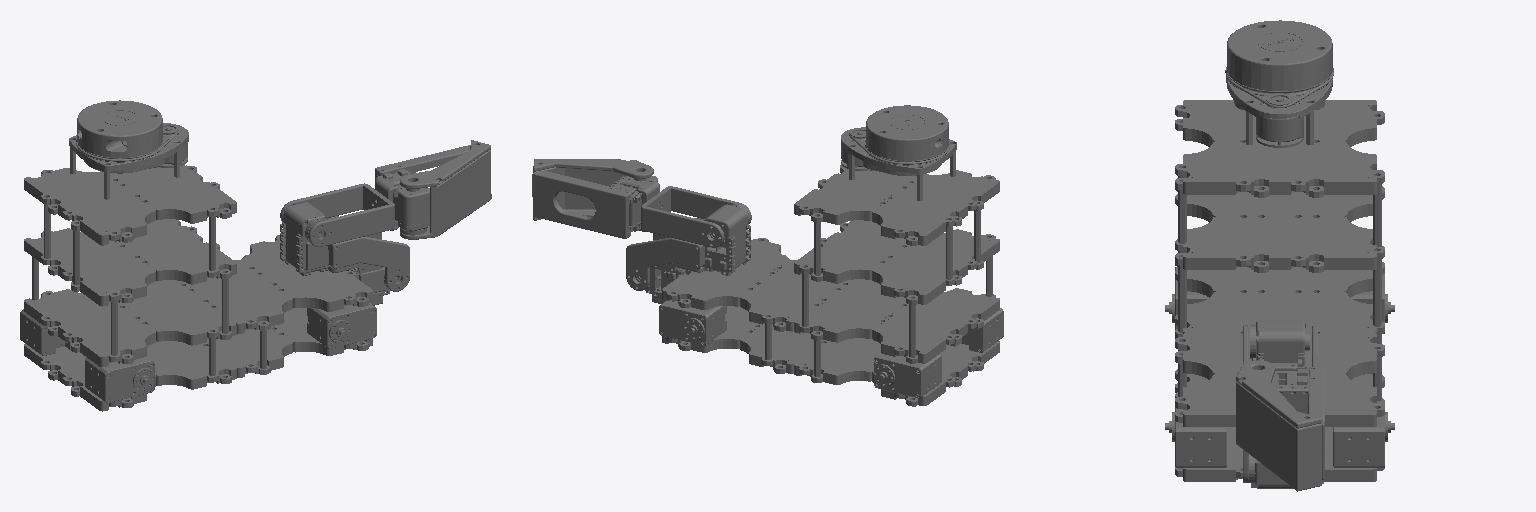
robot.urdf — ai_car:
<?xml version="1.0"?>
<robot name="ai_car">
    <material name="grey">
        <color rgba="0.5 0.5 0.5 1.0"/>
    </material>

    <link name="base_footprint"/>

    <joint name="base_joint" type="fixed">
        <parent link="base_footprint"/>
        <child link="base_link"/>
        <origin xyz="0.0 0.0 0.010" rpy="0 0 0"/>
    </joint>

    <link name="base_link">
        <visual>
            <geometry>
                <mesh filename="package://ai_car/meshes/base_link.stl" scale="0.001 0.001 0.001"/>
            </geometry>
            <material name="grey"/>
        </visual>

        <collision>
            <origin xyz="0.0 0 0.09" rpy="0 0 0"/>
            <geometry>
                <box size="0.27 0.14 0.19"/>
            </geometry>
        </collision>

        <inertial>
            <origin xyz="0 0 0" rpy="0 0 0"/>
            <mass value="8.2573504e-01"/>
            <inertia ixx="2.2124416e-03" ixy="-1.2294101e-05" ixz="3.4938785e-05"
                    iyy="2.1193702e-03" iyz="-5.0120904e-06"
                    izz="2.0064271e-03" />
        </inertial>
    </link>

    <joint name="wheel_left_joint" type="continuous">
        <parent link="base_link"/>
        <child link="wheel_left_link"/>
        <axis xyz="0 0 1"/>
        <origin xyz="0.092 0.08 0.023" rpy="-1.57 0 0"/>
    </joint>

    <link name="wheel_left_link">
        <visual>
            <origin xyz="0.0 0.0 0.0" rpy="1.57 0.0 0.0"/>
            <geometry>
                <mesh filename="package://ai_car/meshes/left_tire.stl" scale="0.001 0.001 0.001"/>
            </geometry>
            <material name="grey"/>
        </visual>

        <collision>
            <origin xyz="0 0 0" rpy="0 0 0"/>
            <geometry>
                <cylinder length="0.018" radius="0.033"/>
            </geometry>
        </collision>

        <inertial>
            <origin xyz="0 0 0" />
            <mass value="2.8498940e-02" />
            <inertia ixx="1.1175580e-05" ixy="-4.2369783e-11" ixz="-5.9381719e-09"
                    iyy="1.1192413e-05" iyz="-1.4400107e-11"
                    izz="2.0712558e-05" />
        </inertial>
    </link>

    <joint name="wheel_right_joint" type="continuous">
        <parent link="base_link"/>
        <child link="wheel_right_link"/>
        <axis xyz="0 0 1"/>
        <origin xyz="0.092 -0.08 0.023" rpy="-1.57 0 0"/>
    </joint>

    <link name="wheel_right_link">
        <visual>
            <origin xyz="0.0 0.0 0.0" rpy="1.57 0.0 0.0"/>
            <geometry>
                <mesh filename="package://ai_car/meshes/right_tire.stl" scale="0.001 0.001 0.001"/>
            </geometry>
            <material name="grey"/>
        </visual>

        <collision>
            <origin xyz="0 0 0" rpy="0 0 0"/>
            <geometry>
                <cylinder length="0.018" radius="0.033"/>
            </geometry>
        </collision>

        <inertial>
            <origin xyz="0 0 0" />
            <mass value="2.8498940e-02" />
            <inertia ixx="1.1175580e-05" ixy="-4.2369783e-11" ixz="-5.9381719e-09"
                    iyy="1.1192413e-05" iyz="-1.4400107e-11"
                    izz="2.0712558e-05" />
        </inertial>
    </link>

    <joint name="wheel_rear_left_joint" type="continuous">
        <parent link="base_link"/>
        <child link="wheel_rear_left_link"/>
        <axis xyz="0 0 1"/>
        <origin xyz="-0.092 0.08 0.023" rpy="-1.57 0 0"/>
    </joint>

    <link name="wheel_rear_left_link">
        <visual>
            <origin xyz="0.0 0.0 0.0" rpy="1.57 0.0 0.0"/>
            <geometry>
                <mesh filename="package://ai_car/meshes/left_tire.stl" scale="0.001 0.001 0.001"/>
            </geometry>
            <material name="grey"/>
        </visual>

        <collision>
            <origin xyz="0 0 0" rpy="0 0 0"/>
            <geometry>
                <cylinder length="0.018" radius="0.033"/>
            </geometry>
        </collision>

        <inertial>
            <origin xyz="0 0 0" />
            <mass value="2.8498940e-02" />
            <inertia ixx="1.1175580e-05" ixy="-4.2369783e-11" ixz="-5.9381719e-09"
                    iyy="1.1192413e-05" iyz="-1.4400107e-11"
                    izz="2.0712558e-05" />
        </inertial>
    </link>

    <joint name="wheel_rear_right_joint" type="continuous">
        <parent link="base_link"/>
        <child link="wheel_rear_right_link"/>
        <axis xyz="0 0 1"/>
        <origin xyz="-0.092 -0.08 0.023" rpy="-1.57 0 0"/>
    </joint>

    <link name="wheel_rear_right_link">
        <visual>
            <origin xyz="0.0 0.0 0.0" rpy="1.57 0.0 0.0"/>
            <geometry>
                <mesh filename="package://ai_car/meshes/right_tire.stl" scale="0.001 0.001 0.001"/>
            </geometry>
            <material name="grey"/>
        </visual>

        <collision>
            <origin xyz="0 0 0" rpy="0 0 0"/>
            <geometry>
                <cylinder length="0.018" radius="0.033"/>
            </geometry>
        </collision>

        <inertial>
            <origin xyz="0 0 0" />
            <mass value="2.8498940e-02" />
            <inertia ixx="1.1175580e-05" ixy="-4.2369783e-11" ixz="-5.9381719e-09"
                    iyy="1.1192413e-05" iyz="-1.4400107e-11"
                    izz="2.0712558e-05" />
        </inertial>
    </link>

    <joint name="scan_joint" type="fixed">
        <parent link="base_link"/>
        <child link="base_scan"/>
        <origin xyz="-0.064 0.0 0.22" rpy="0.0 0.0 0.0"/>
    </joint>

    <link name="base_scan">
        <visual>
            <origin xyz="0.0 0.0 -0.022" rpy="0.0 0.0 0.0"/>
            <geometry>
                <mesh filename="package://ai_car/meshes/RP-lidar-A1.stl" scale="0.001 0.001 0.001"/>
            </geometry>
            <material name="grey"/>
        </visual>

        <collision>
            <origin xyz="0 0 -0.0065" rpy="0 0 0"/>
            <geometry>
                <cylinder length="0.0315" radius="0.055"/>
            </geometry>
        </collision>

        <inertial>
            <mass value="0.114" />
            <origin xyz="0 0 0" />
            <inertia ixx="0.001" ixy="0.0" ixz="0.0"
                    iyy="0.001" iyz="0.0"
                    izz="0.001" />
        </inertial>
    </link>

    <joint name="imu_joint" type="fixed">
        <parent link="base_link"/>
        <child link="imu_link"/>
        <origin xyz="0.04 0.0 0.0" rpy="0.0 0.0 0.0"/>
    </joint>

    <link name="imu_link"/>
    
    <joint name="arm_joint_1" type="revolute">
        <parent link="base_link"/>
        <child link="arm_link_1"/>
        <axis xyz="0 -1 0"/>
        <limit lower="0" upper="1.57" velocity="50.0" effort="1000.0"/>
        <origin xyz="0.1735 -0.020375 0.03225" rpy="-3.14 1.57 0.0"/>
    </joint>

    <link name="arm_link_1">
        <visual>
            <origin xyz="0.0 0.0 0.0" rpy="3.14 1.57 0.0"/>
            <geometry>
                <mesh filename="package://ai_car/meshes/arm_link_1.stl" scale="0.001 0.001 0.001"/>
            </geometry>
            <material name="grey"/>
        </visual>

        <collision>
            <origin xyz="0 0 0" rpy="3.14 1.57 0"/>
            <geometry>
                <mesh filename="package://ai_car/meshes/arm_link_1.stl" scale="0.001 0.001 0.001"/>
            </geometry>
        </collision>

        <inertial>
            <origin xyz="3.0876154e-04 0.0000000e+00 -1.2176461e-04" />
            <mass value="7.9119962e-02" />
            <inertia ixx="1.2505234e-05" ixy="0.0" ixz="-1.7855208e-07"
                    iyy="2.1898364e-05" iyz="0.0"
                    izz="1.9267361e-05" />
        </inertial>
    </link>
    
    <joint name="arm_joint_2" type="revolute">
        <parent link="arm_link_1"/>
        <child link="arm_link_2"/>
        <axis xyz="0 1 0"/>
        <limit lower="0" upper="1.57" velocity="50.0" effort="1000.0"/>
        <origin xyz="-0.0568 0.0 0.072" rpy="0 1.57 0"/>

    </joint>

    <link name="arm_link_2">
        <visual>
            <origin xyz="0.0 0.0 0.0" rpy="3.14 0.0 0.0"/>
            <geometry>
                <mesh filename="package://ai_car/meshes/arm_link_2.stl" scale="0.001 0.001 0.001"/>
            </geometry>
            <material name="grey"/>
        </visual>

        <collision>
            <origin xyz="0 0 0" rpy="3.14 0 0.0"/>
            <geometry>
                <mesh filename="package://ai_car/meshes/arm_link_2.stl" scale="0.001 0.001 0.001"/>
            </geometry>
        </collision>

        <inertial>
            <origin xyz="3.0876154e-04 0.0000000e+00 -1.2176461e-04" />
            <mass value="7.9119962e-02" />
            <inertia ixx="1.2505234e-05" ixy="0.0" ixz="-1.7855208e-07"
                    iyy="2.1898364e-05" iyz="0.0"
                    izz="1.9267361e-05" />
        </inertial>
    </link>
    
    <joint name="tool_joint" type="revolute">
        <parent link="arm_link_2"/>
        <child link="arm_tool"/>
        <axis xyz="0 0 1"/>
        <limit lower="0.0" upper="1.57" velocity="50.0" effort="1000.0"/>
        <origin xyz="0.09125 -0.00625 0.021" rpy="0 0 -0.5"/>
    </joint>

    <link name="arm_tool">
        <visual>
            <origin xyz="0.0 0.0 0.0" rpy="3.14 0.0 0.0"/>
            <geometry>
                <mesh filename="package://ai_car/meshes/arm_tool.stl" scale="0.001 0.001 0.001"/>
            </geometry>
            <material name="grey"/>
        </visual>

        <collision>
            <origin xyz="0 0 0" rpy="3.14 0 0"/>
            <geometry>
                <mesh filename="package://ai_car/meshes/arm_tool.stl" scale="0.001 0.001 0.001"/>
            </geometry>
        </collision>

        <inertial>
            <origin xyz="3.0876154e-04 0.0000000e+00 -1.2176461e-04" />
            <mass value="7.9119962e-02" />
            <inertia ixx="1.2505234e-05" ixy="0.0" ixz="-1.7855208e-07"
                    iyy="2.1898364e-05" iyz="0.0"
                    izz="1.9267361e-05" />
        </inertial>
    </link>

</robot>

--- Render facts (derived) ---
3 views of the same robot in one strip: view 1: azimuth 30°, elevation 25°; view 2: azimuth 150°, elevation 25°; view 3: azimuth 270°, elevation 25° (orthographic).
Model ai_car with 11 links and 10 joints (3 revolute, 4 continuous, 3 fixed), rooted at base_footprint, posed every joint at zero.
Visible links, largest first — view 1: base_link, arm_link_2, base_scan, arm_link_1, arm_tool; view 2: base_link, arm_link_2, base_scan, arm_link_1, arm_tool; view 3: base_link, base_scan, arm_tool, arm_link_2, arm_link_1.
Link boxes in pixels (box(x1,y1,x2,y2)): base_link: box(20, 165, 400, 411); arm_link_2: box(280, 145, 470, 246); base_scan: box(69, 100, 188, 199); arm_link_1: box(280, 202, 409, 291); arm_tool: box(400, 140, 491, 239); base_link: box(635, 164, 1003, 406); arm_link_2: box(532, 171, 751, 247); base_scan: box(841, 105, 956, 200); arm_link_1: box(626, 204, 750, 290); arm_tool: box(533, 159, 653, 220); base_link: box(1165, 100, 1394, 488); base_scan: box(1225, 20, 1333, 147); arm_tool: box(1236, 360, 1321, 491); arm_link_2: box(1243, 325, 1324, 479); arm_link_1: box(1243, 321, 1311, 482).
Bounding box of the posed robot: 0.4137 × 0.1508 × 0.2247 m (x, y, z).
Meshes: 7 distinct files referenced, 5 mesh visuals loaded (5 binary STL); not drawn: 4 (reference not matched to a file when rendering).
